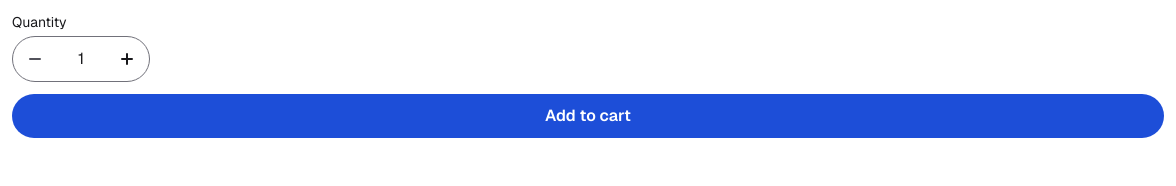
Test case: AddToCartForm v2: stock changed mid-session › hostile error message renders as text
What coordinates should you click on to do the following:
click the button "Add to cart"
I would click on:
 (588, 116)
Its box is [12, 94, 1164, 138].
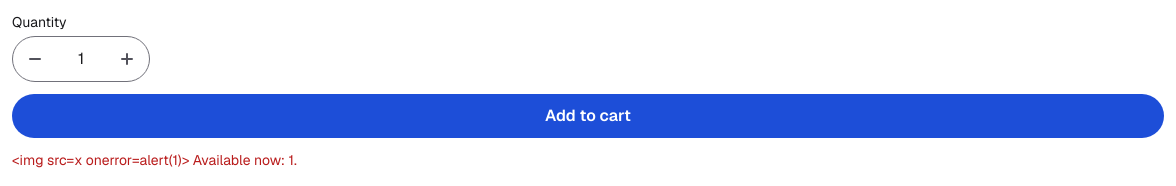
Check: the message shows "<img src=x onerror=alert(1)>", box [12, 151, 189, 169]
